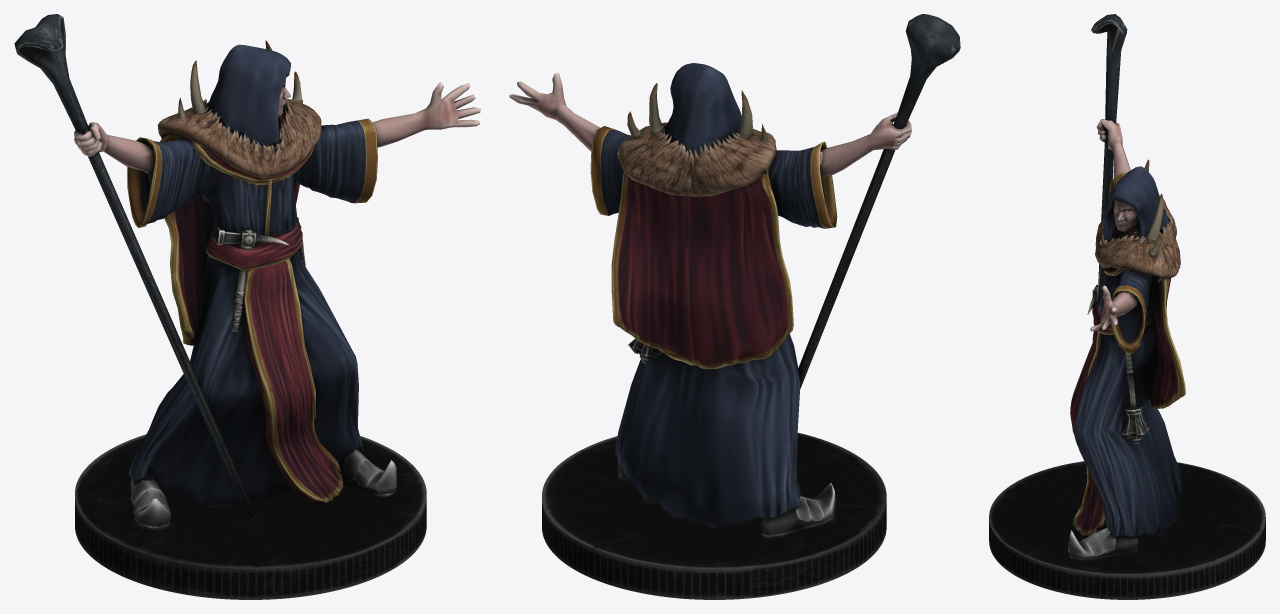
Rendered from MZ4250 - Human Cleric (Zargash).glb.
3 renders of one model, left to right at view 1: azimuth 30°, elevation 25°; view 2: azimuth 150°, elevation 25°; view 3: azimuth 270°, elevation 25°, orthographic. The views are drawn at different scales.
Parts seen in each view (by area): view 1: body_low.001, base_low.001, staff_low.001, cape_low.001, fur_low.001, hood_low.001, pick_low.001; view 2: body_low.001, base_low.001, cape_low.001, fur_low.001, staff_low.001, hood_low.001; view 3: base_low.001, body_low.001, cape_low.001, fur_low.001, staff_low.001, hood_low.001, mace_low.001.
Boxes of the visible parts, box(x1,y1,x2,y2) form: body_low.001: box(74, 72, 480, 529); base_low.001: box(75, 434, 426, 599); staff_low.001: box(14, 14, 256, 517); cape_low.001: box(160, 40, 314, 345); fur_low.001: box(157, 98, 321, 177); hood_low.001: box(207, 44, 290, 146); pick_low.001: box(215, 227, 289, 332); body_low.001: box(509, 73, 911, 538); base_low.001: box(542, 432, 886, 599); cape_low.001: box(611, 83, 793, 369); fur_low.001: box(617, 122, 776, 196); staff_low.001: box(798, 14, 960, 389); hood_low.001: box(664, 63, 741, 155); base_low.001: box(989, 461, 1265, 599); body_low.001: box(1068, 119, 1181, 561); cape_low.001: box(1103, 159, 1185, 409); fur_low.001: box(1095, 195, 1180, 282); staff_low.001: box(1091, 14, 1127, 282); hood_low.001: box(1103, 166, 1168, 240); mace_low.001: box(1122, 352, 1149, 443).
Size of the model in its own units: 6.19 by 7.29 by 4.11.
1 material, 1 textured.
